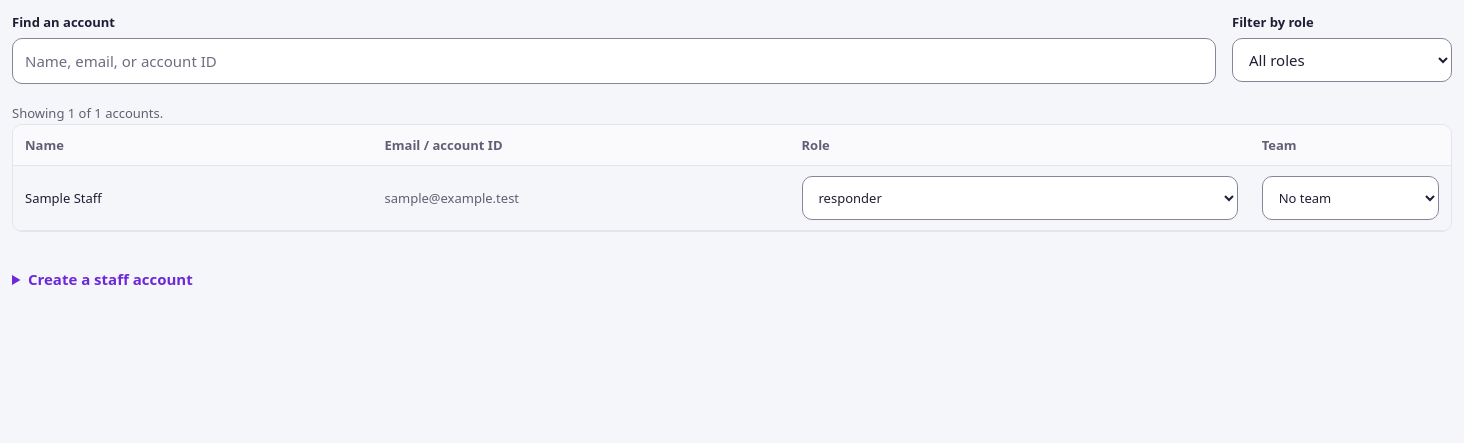
Test: role preserves focus and blocks repeats during a failed save
Expected: the text "Sample Staff" is shown, x1=13 y1=165 x2=372 y2=230
Select "admin" in the dropdown named "Role for Sample Staff" at (1020, 198), box x1=802 y1=176 x2=1238 y2=220
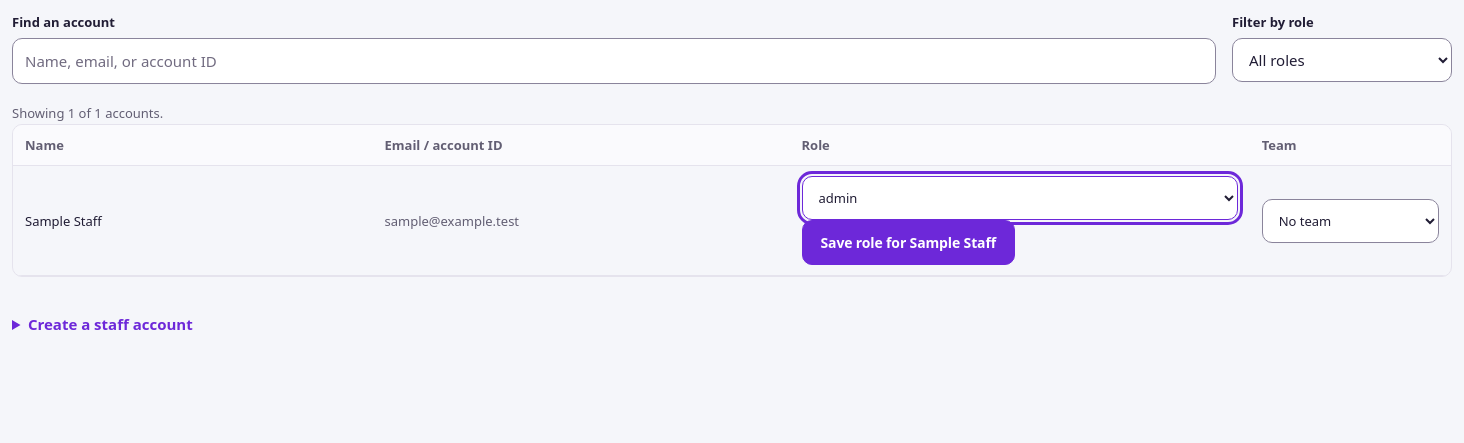
Click the button "Save role for Sample Staff" at (908, 243), box x1=802 y1=220 x2=1015 y2=266
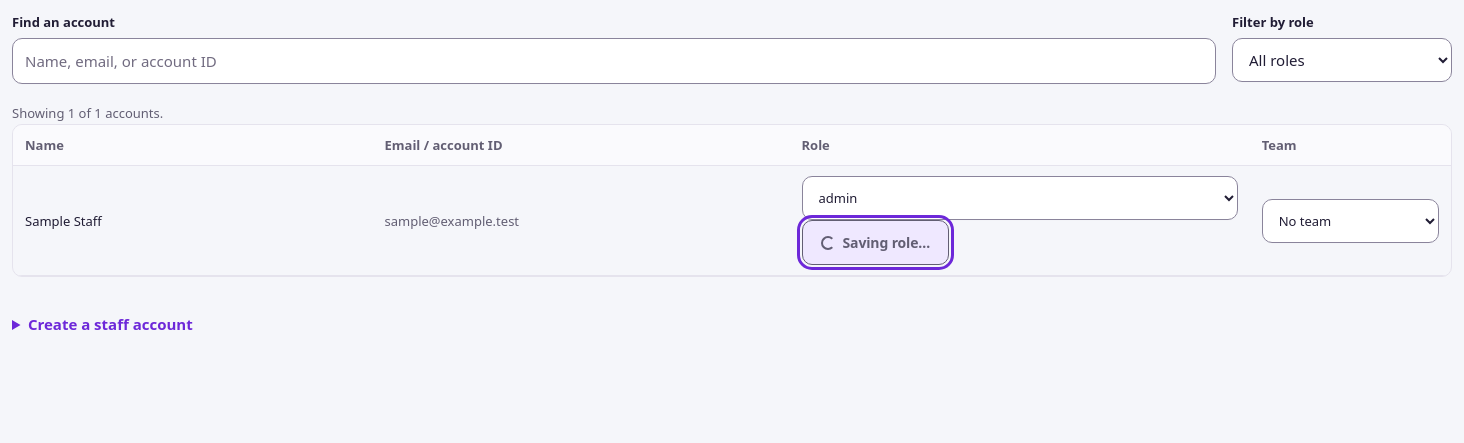
Result: the button named "Save role for Sample Staff" is enabled at x1=802 y1=220 x2=949 y2=266
Press Enter Enter
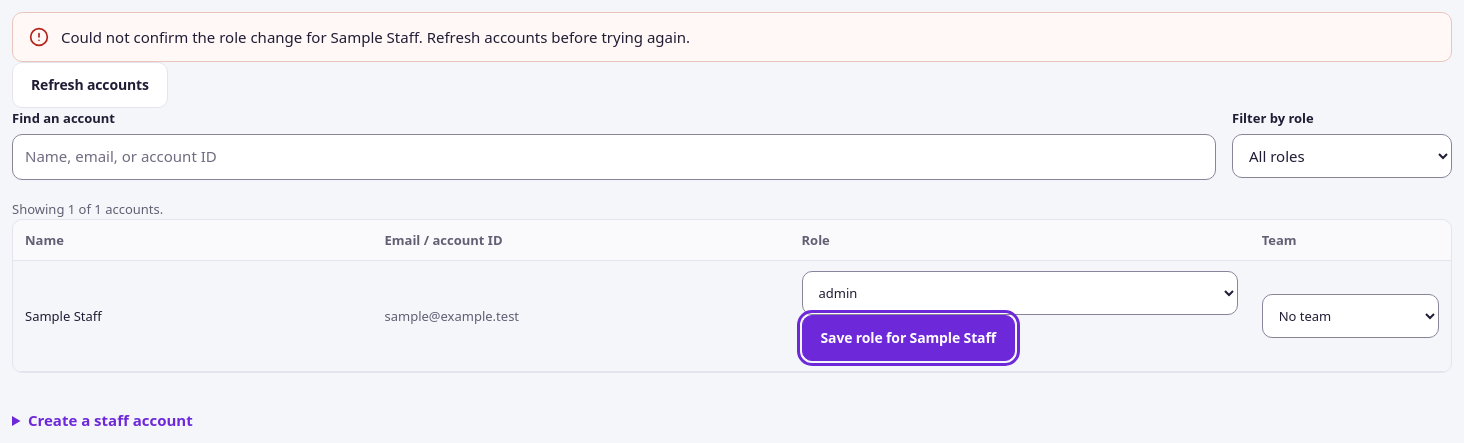
Result: the 1st message is shown at x1=12 y1=12 x2=1452 y2=62
